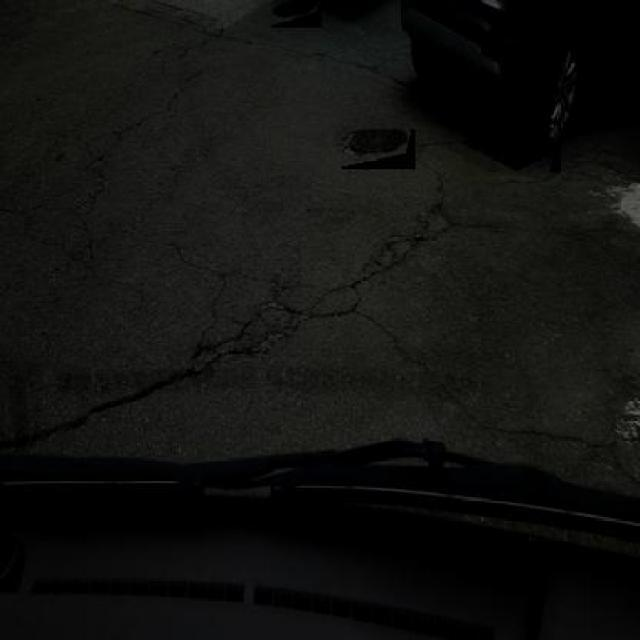Manhole: (463, 119, 560, 172), (342, 129, 416, 169), (270, 4, 322, 28)
Pothole: (180, 294, 306, 392)
